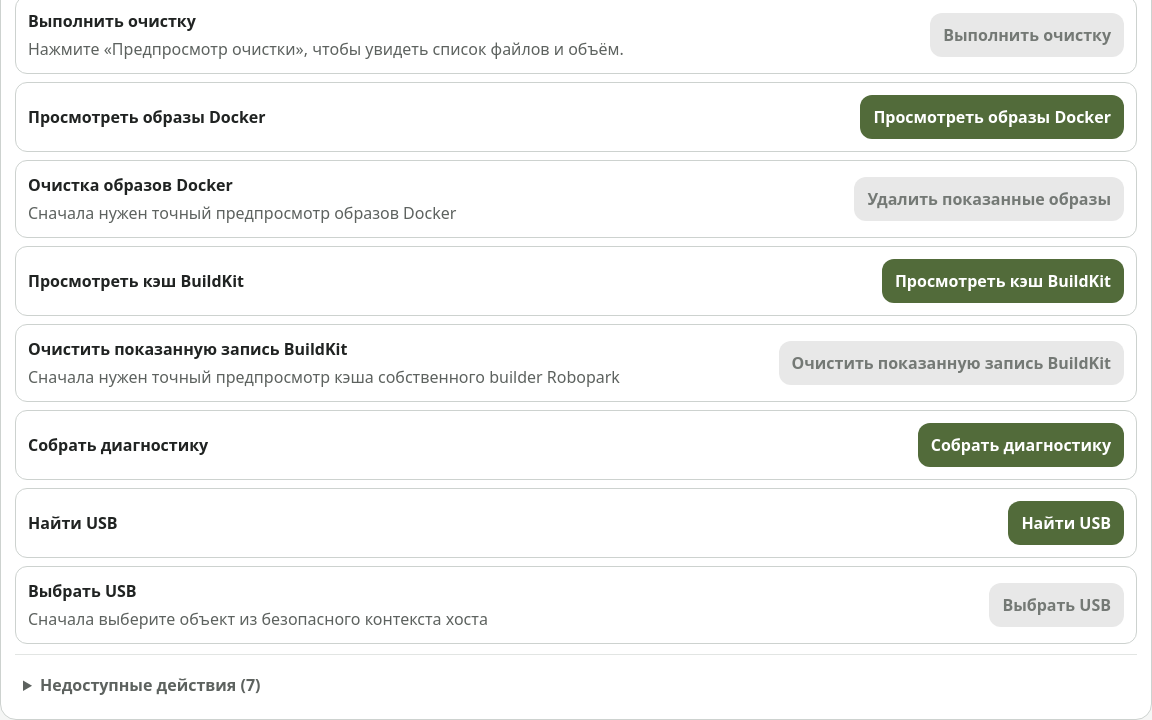
it: SystemPage › shows terminal-active as a definite refusal and clears the operation reservation
(page scrolled)
Click the button "Собрать диагностику" at (1021, 445), box [918,423,1124,467]
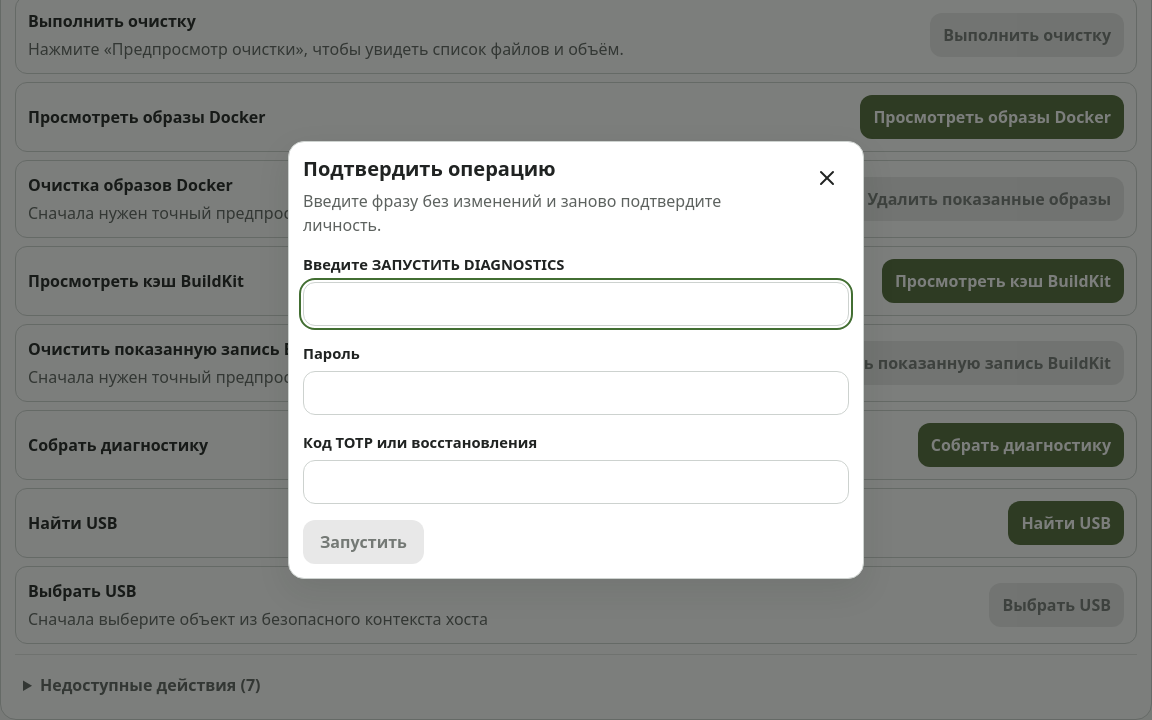
Type "ЗАПУСТИТЬ DIAGNOSTICS" into the field labelled "Введите ЗАПУСТИТЬ DIAGNOSTICS" at (576, 304), box [303,282,849,326]
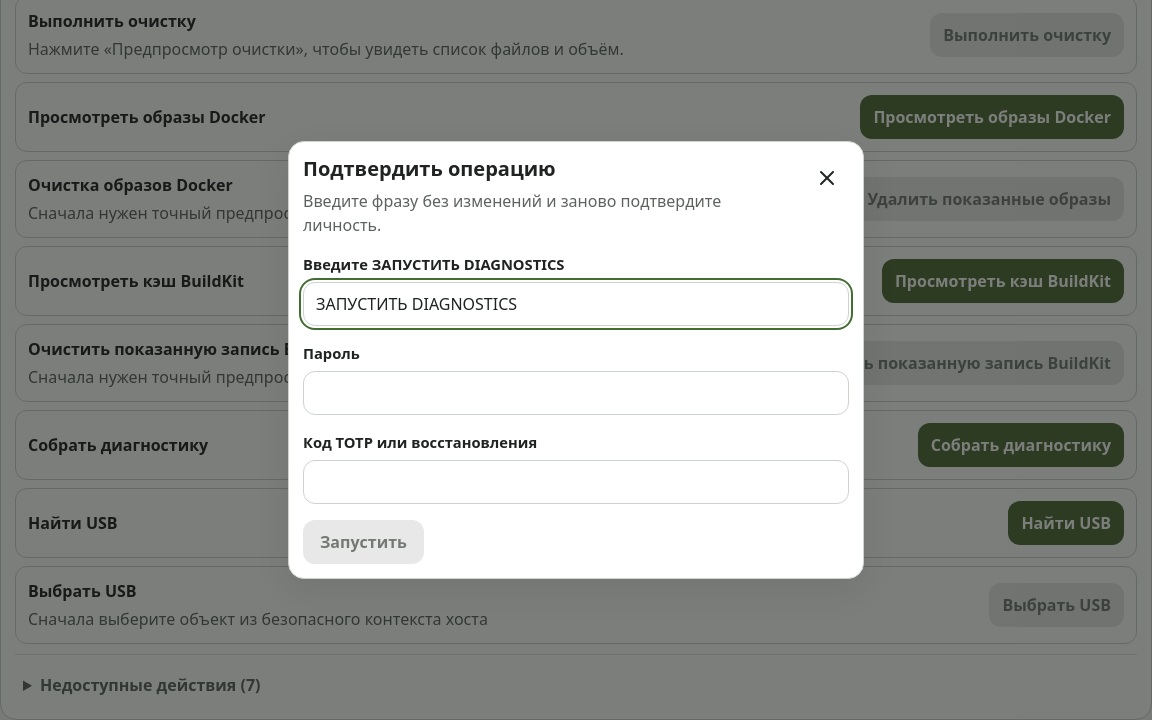
Type "secret" into the password field labelled "Пароль" at (576, 393), box [303,371,849,415]
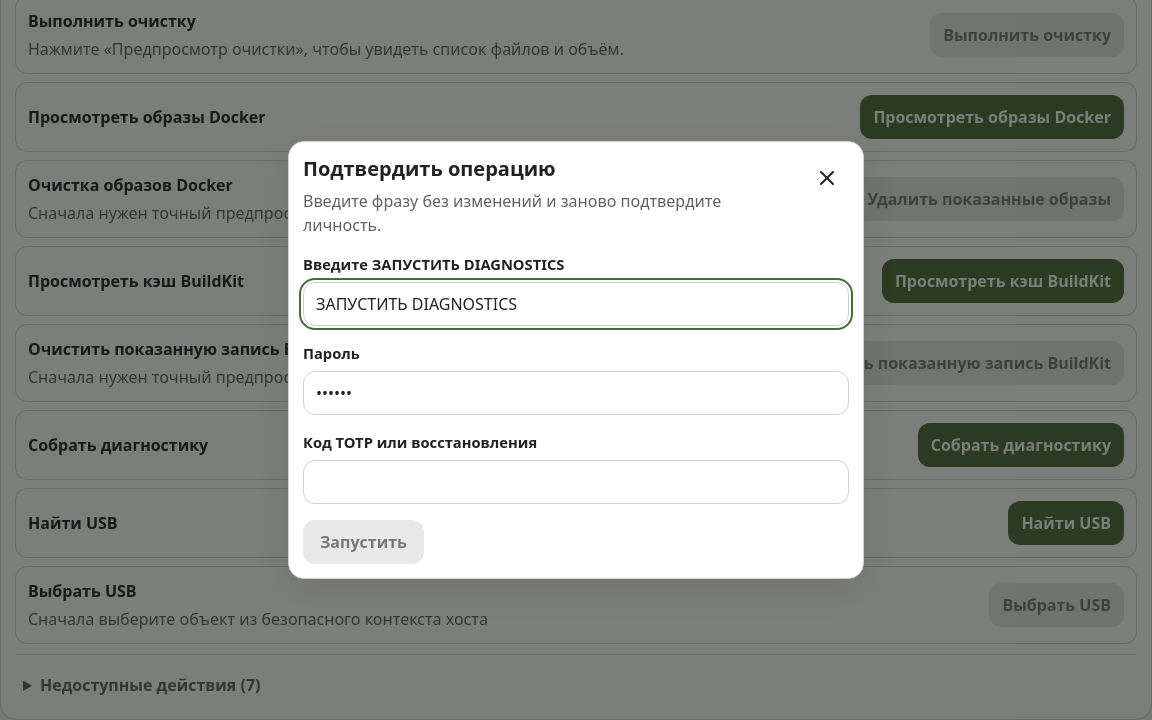
Type "123456" into the field labelled "Код TOTP или восстановления" at (576, 482), box [303,460,849,504]
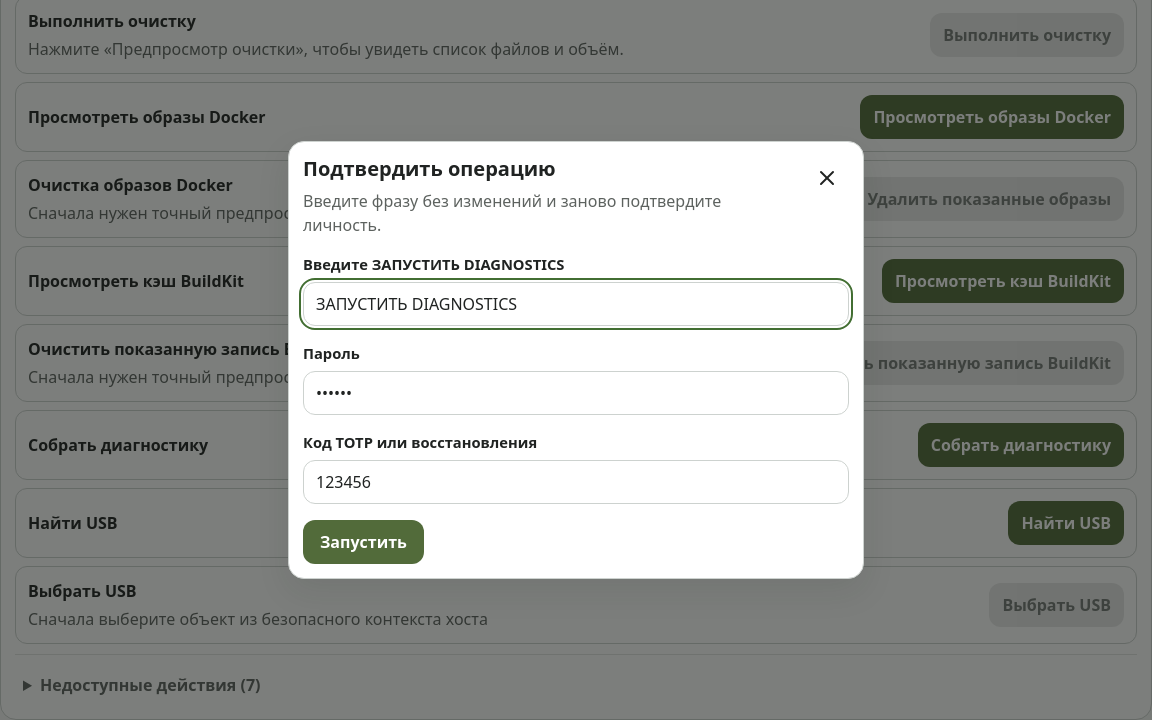
Click the button "Запустить" at (363, 542), box [303,520,424,564]
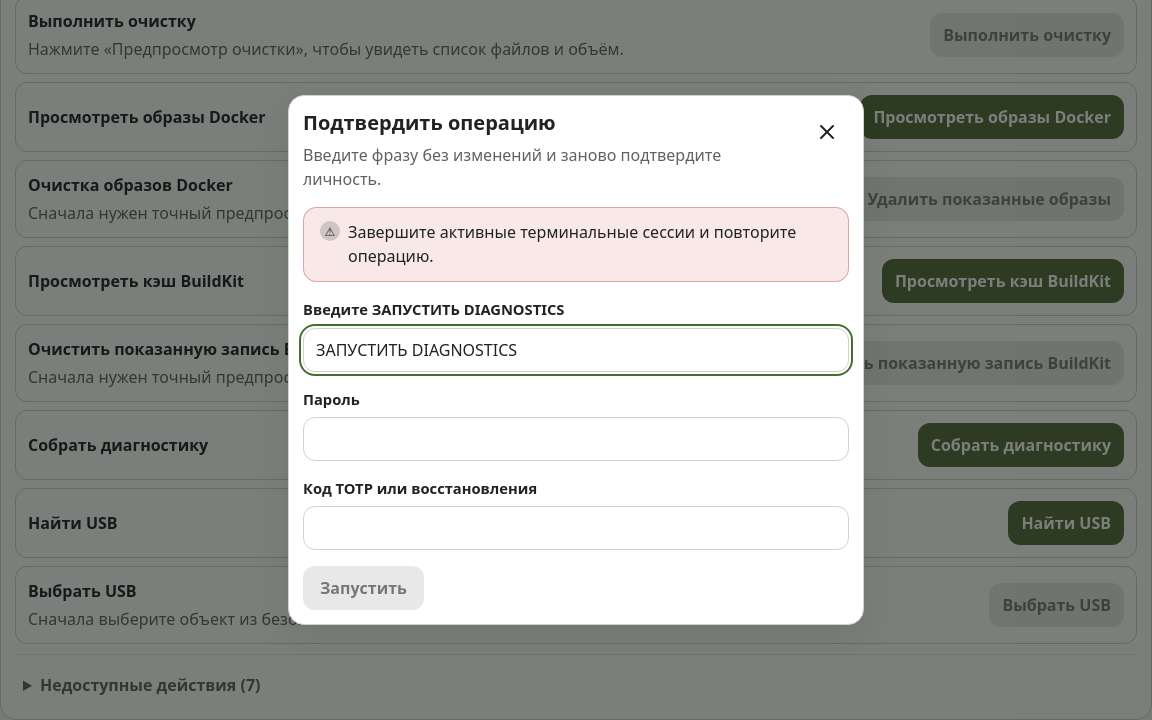
Expected: the text "Завершите активные терминальные сессии и повторите операцию." is shown, [348,221,832,268]
